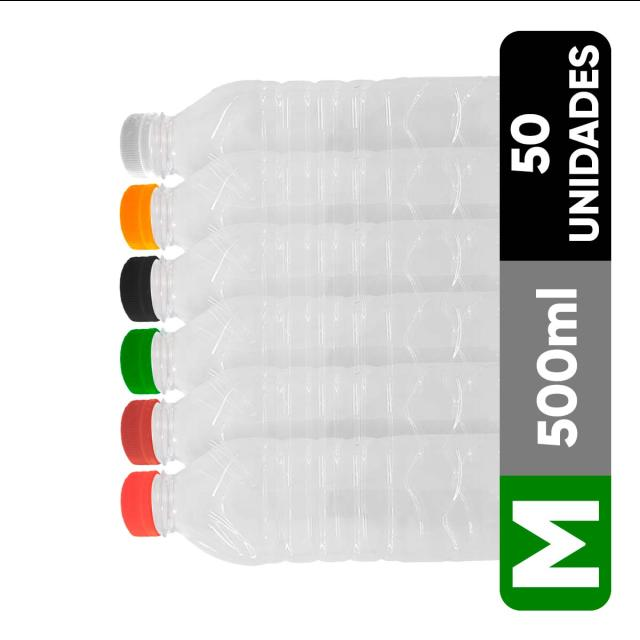cap: (121, 106, 174, 186), (120, 463, 166, 552), (111, 258, 172, 321), (119, 332, 178, 394), (116, 176, 166, 249), (114, 394, 168, 460)
